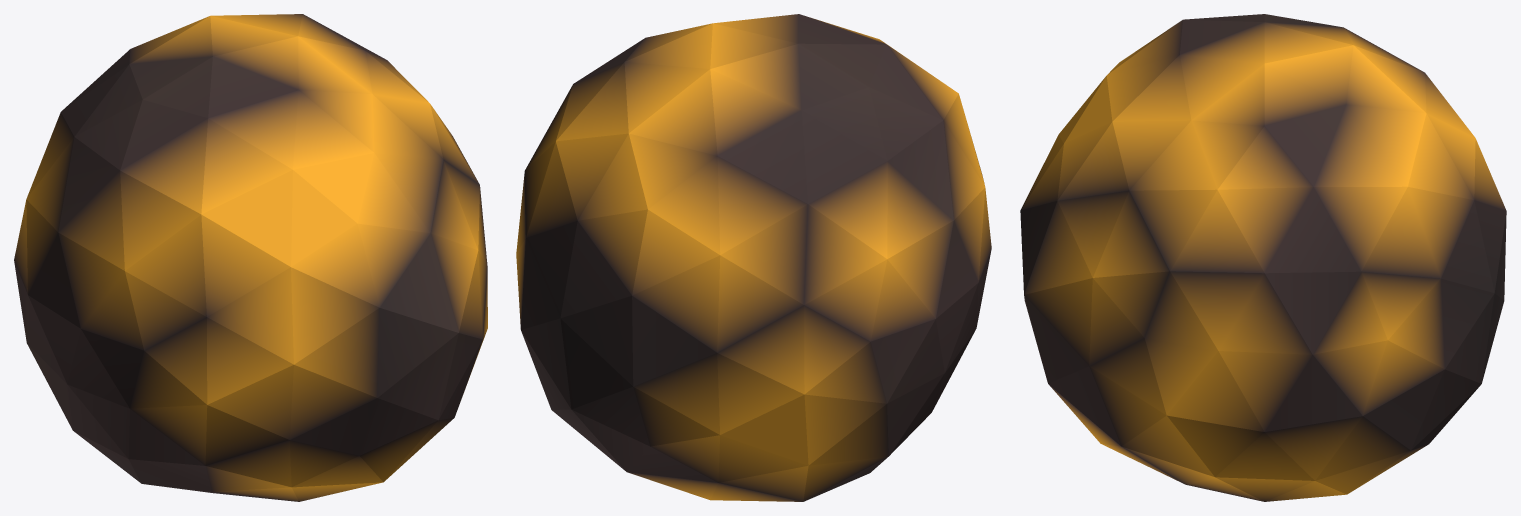
Rendered from bola-magma.glb.
3 views of the same model, side by side, from view 1: azimuth 30°, elevation 25°; view 2: azimuth 150°, elevation 25°; view 3: azimuth 270°, elevation 25° (orthographic). The views are drawn at different scales.
Visible parts, largest first — view 1: bola-magma; view 2: bola-magma; view 3: bola-magma.
Boxes of the visible parts, x1=… form: bola-magma: x1=14, y1=14, x2=487, y2=501; bola-magma: x1=516, y1=14, x2=991, y2=501; bola-magma: x1=1020, y1=14, x2=1506, y2=501.
Size of the model in its own units: 2.88 by 2.96 by 3.02.
